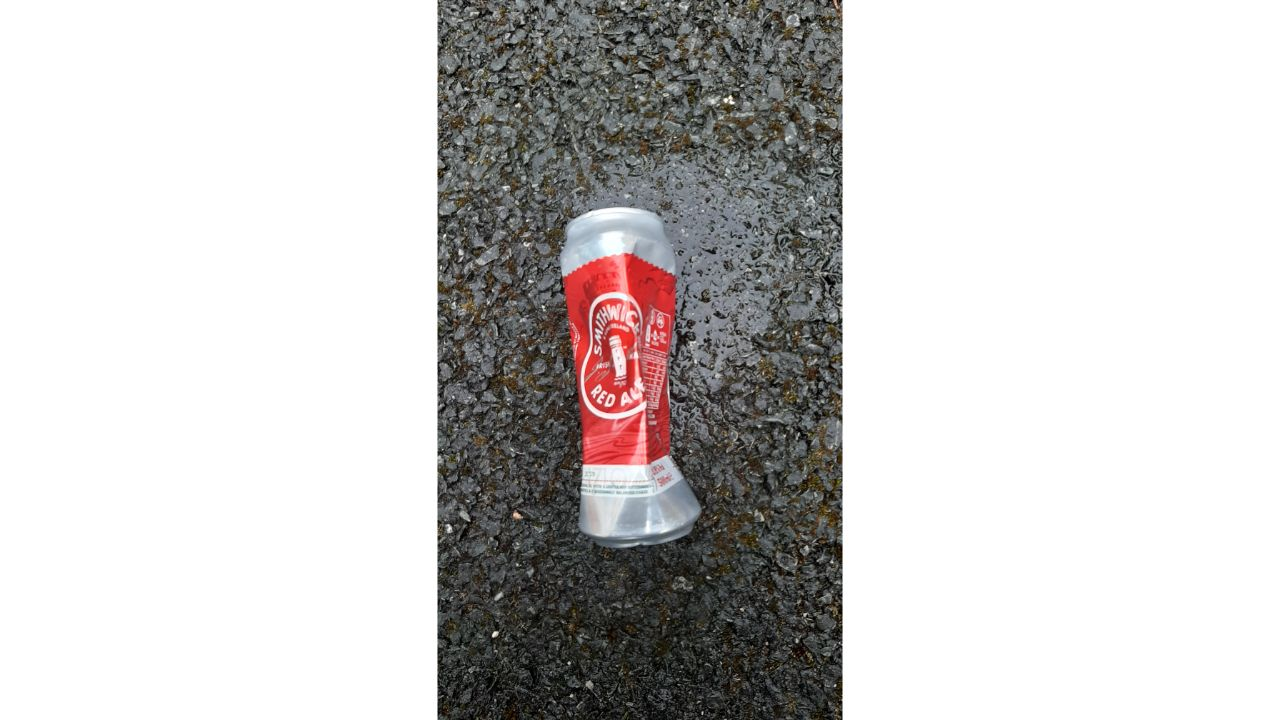Can: (556, 207, 703, 551)
